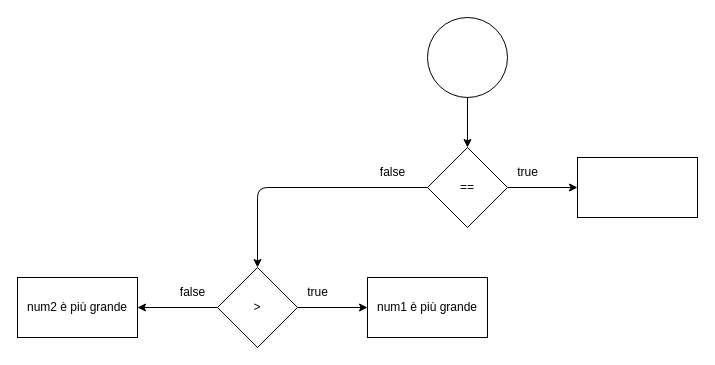
Image size: 715x365. Some labels were removed from this diagram. The box of each missing label's shape, as (x1, y1, x2, y2) in pixels:
num1 & num2: (426, 16, 508, 98)
num1 e num2 sono uguali: (576, 156, 698, 218)
